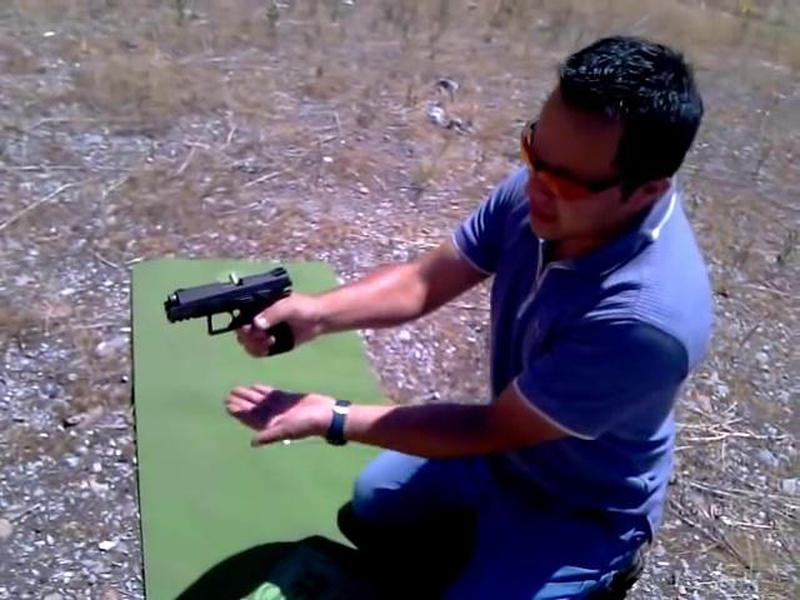Pistola: (141, 232, 310, 384)
